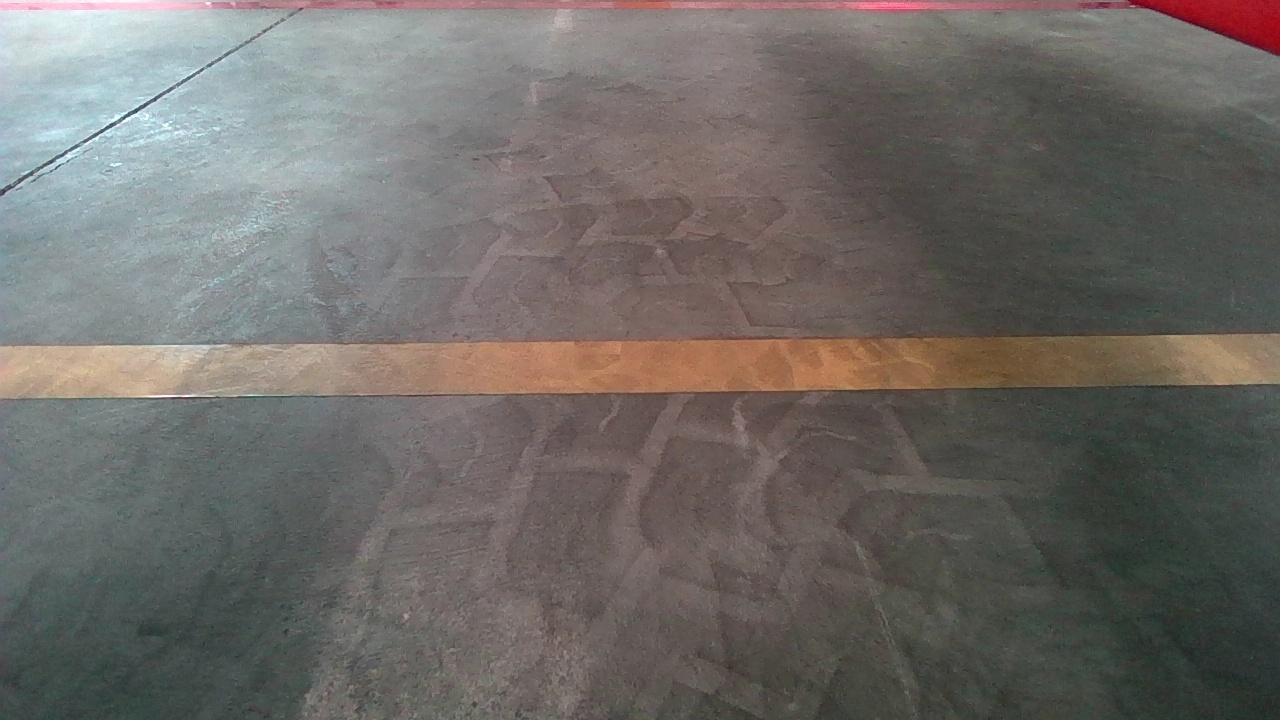yellow_line: (3, 329, 1280, 398)
